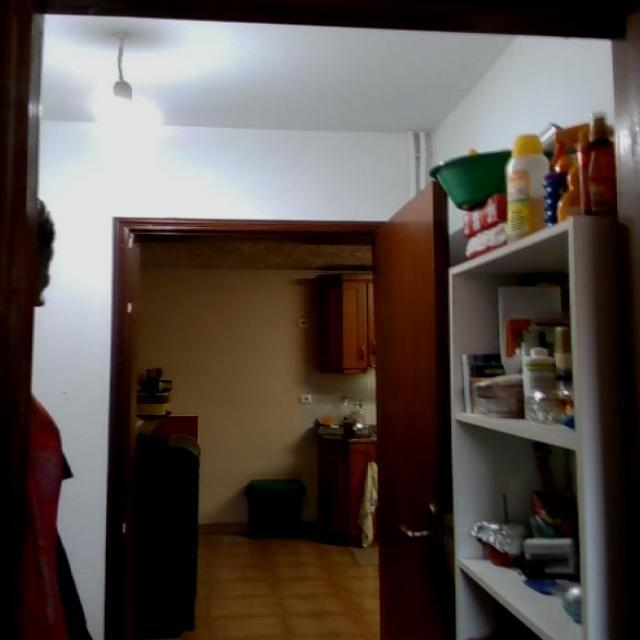door: (358, 178, 460, 640)
